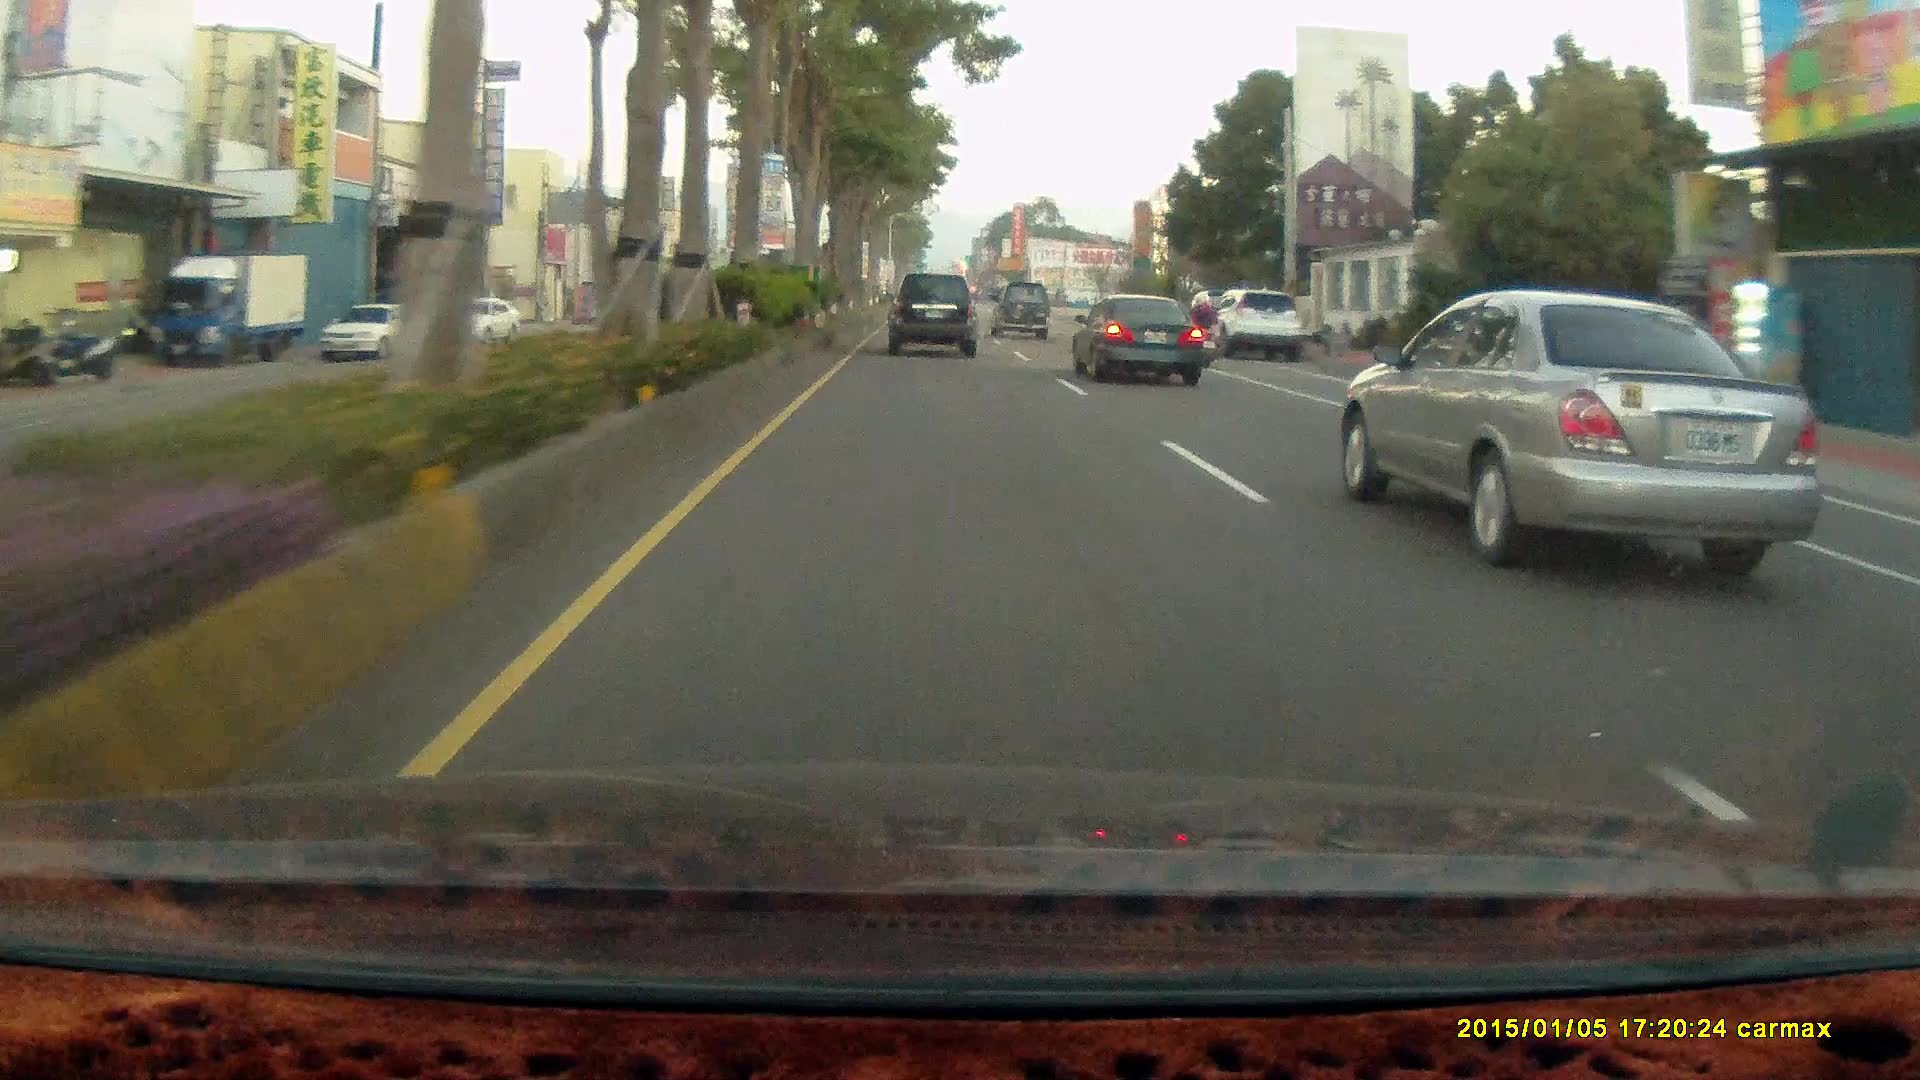rider: (1182, 293, 1221, 370)
vehicle: (1329, 293, 1818, 582), (148, 252, 311, 367), (149, 254, 313, 367), (1070, 297, 1210, 394), (1068, 292, 1204, 386), (883, 273, 979, 361), (884, 273, 975, 359), (1201, 289, 1304, 363), (1217, 293, 1304, 364), (319, 302, 425, 360), (321, 306, 426, 361), (431, 303, 520, 353), (989, 284, 1052, 346), (988, 280, 1051, 341)
